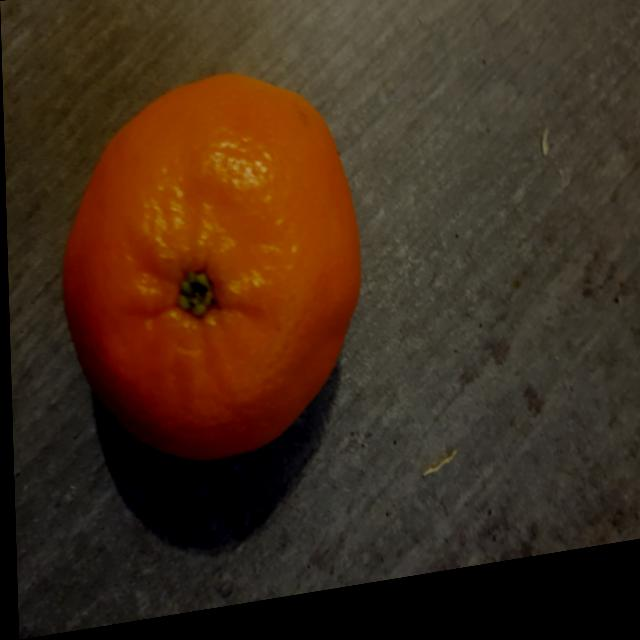Orange: (61, 79, 361, 469)
